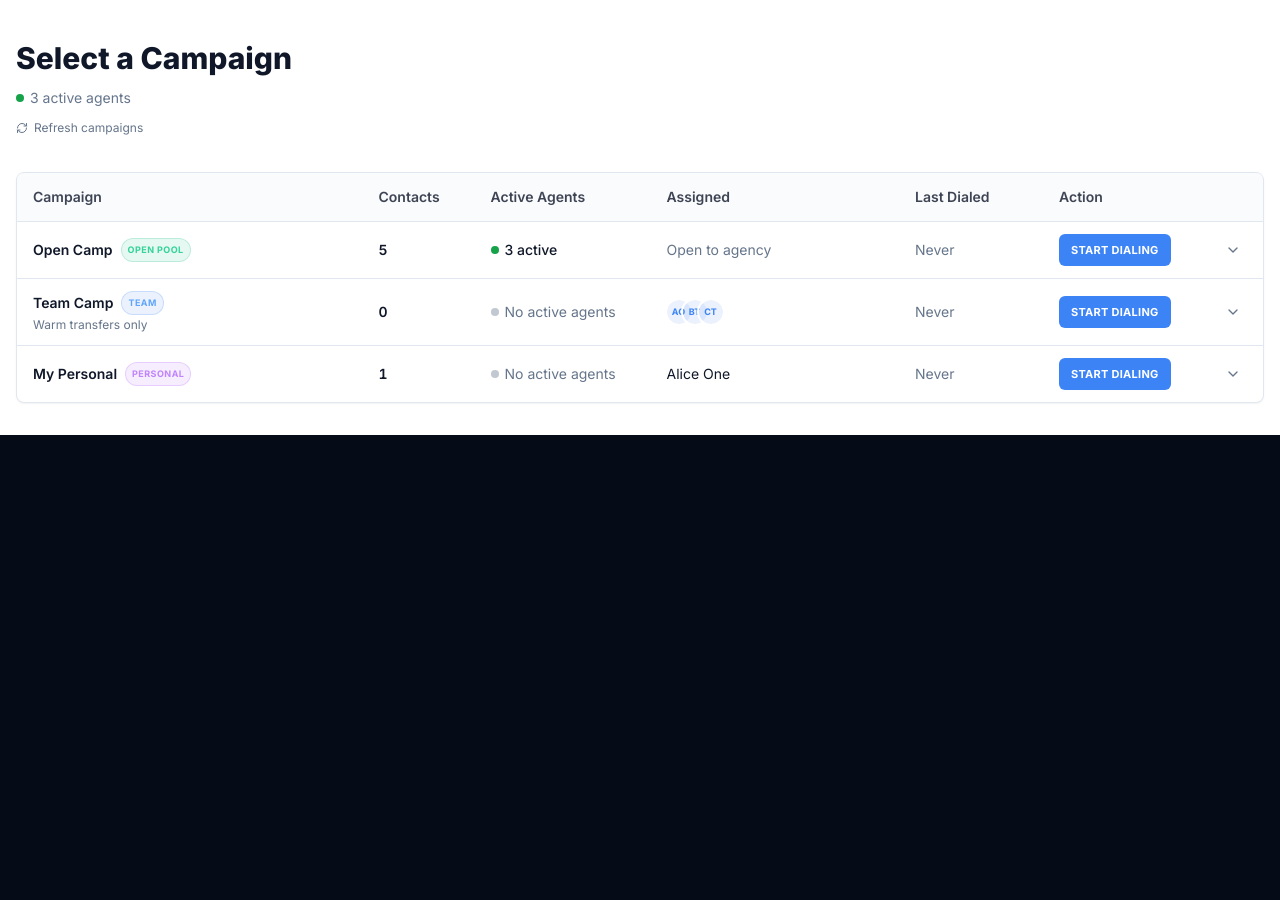
Test: CampaignSelection — role-aware columns › leadership expanded rows render permitted assigned and active-agent details
Click the row with test id "campaign-row-c-open".
click(640, 250)  # box [17,221,1263,278]
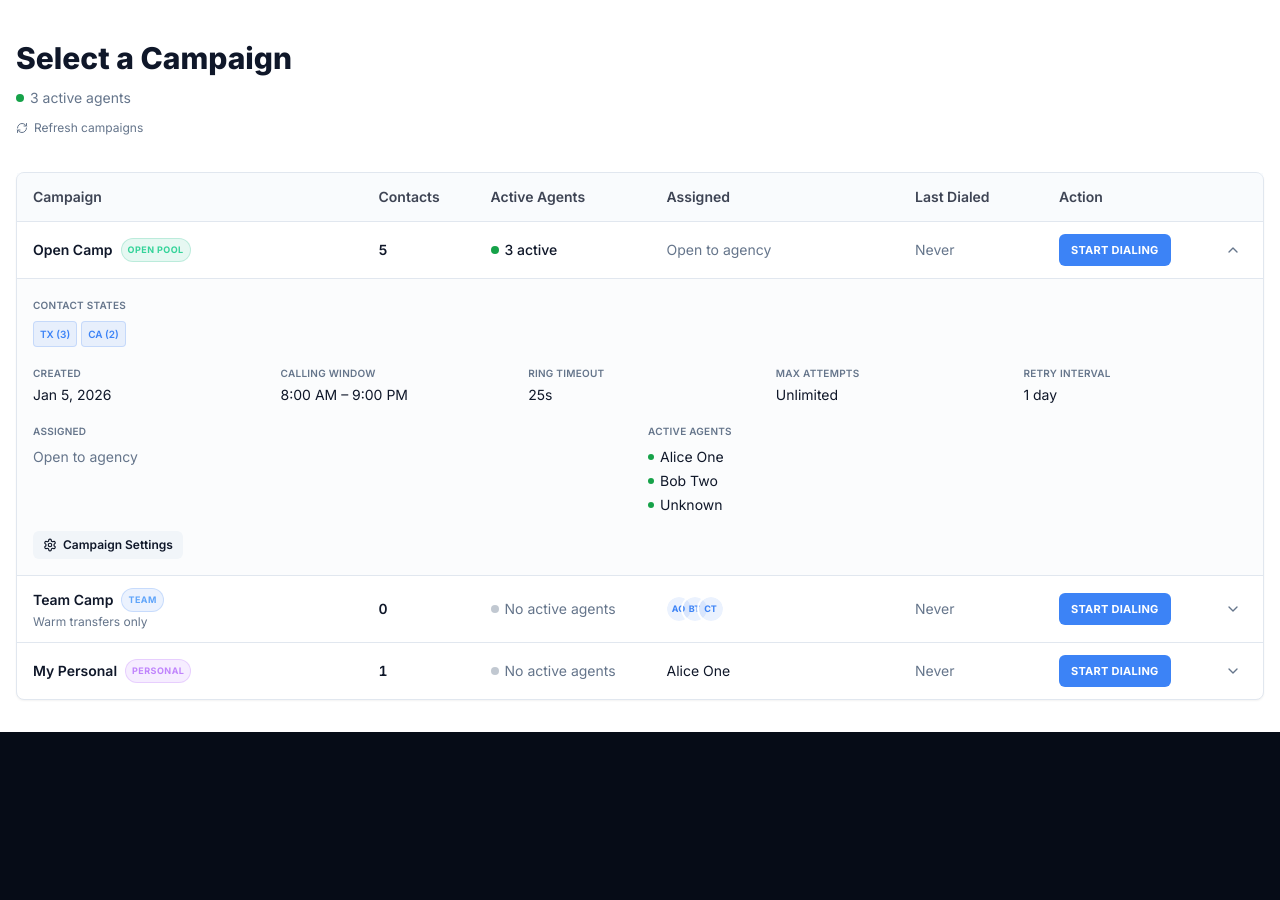
Now the list item "Alice One" is shown, box [648,448,724,464]
Now the text "Open to agency" below "Jan 5, 2026" is shown, box [33,448,138,464]
Click the row with test id "campaign-row-c-team".
click(640, 608)  # box [17,575,1263,642]
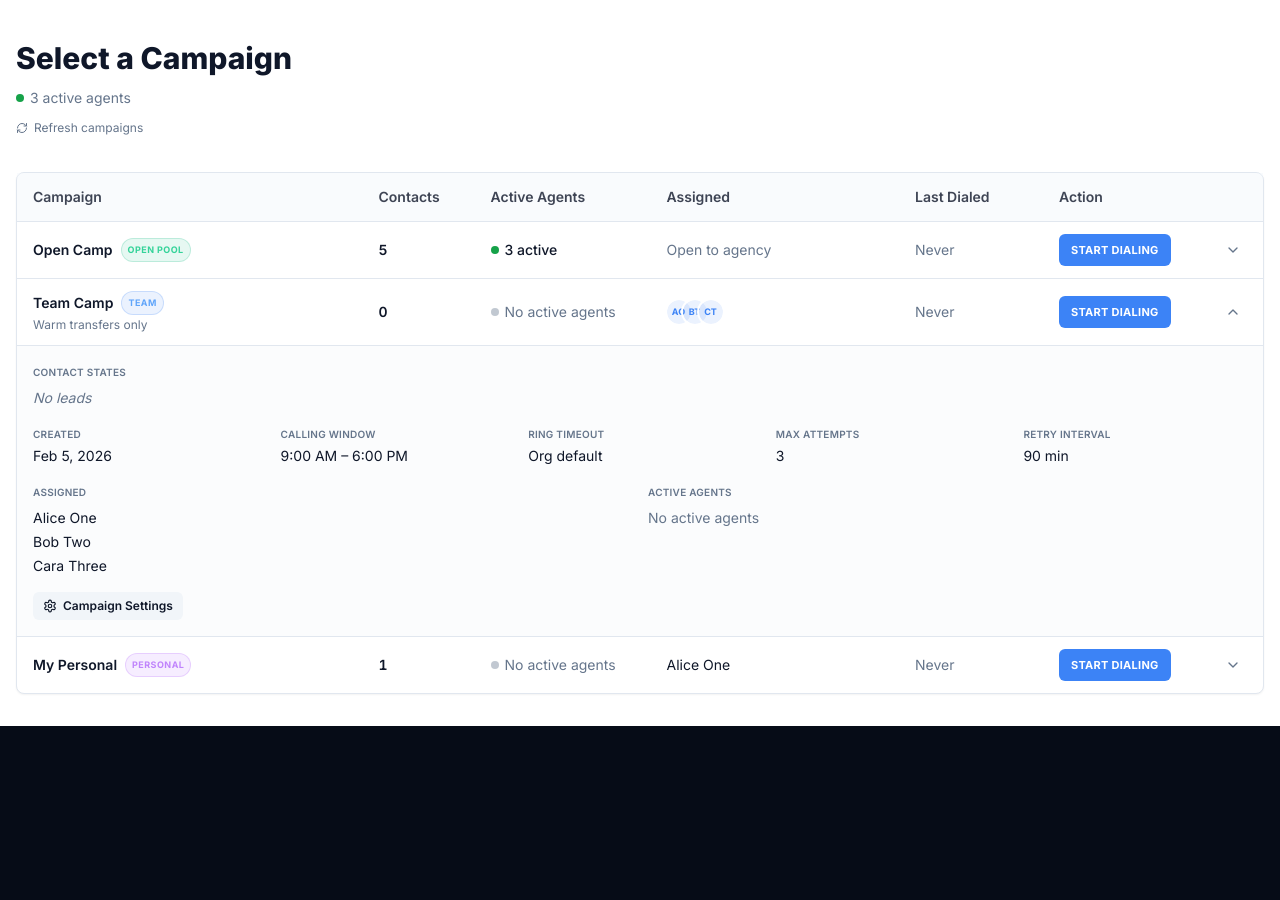
Now the list item "Cara Three" is shown, box [33,556,107,574]
Now the text "No active agents" is shown, box [648,508,759,526]
